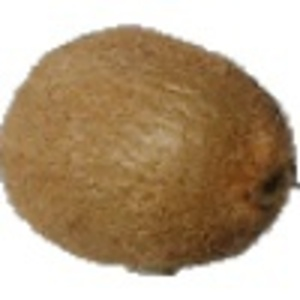kiwi: (1, 23, 300, 278)
